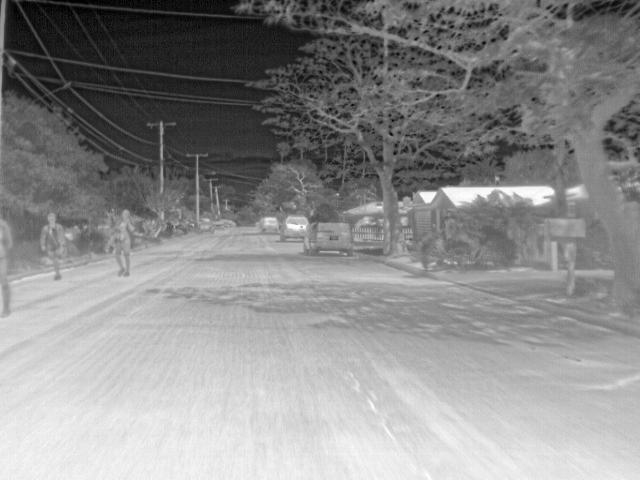car: (303, 221, 355, 258), (280, 215, 308, 242), (256, 218, 279, 234), (198, 222, 213, 236), (213, 220, 226, 232)
person: (39, 211, 67, 280), (0, 213, 18, 318), (114, 206, 134, 278)
